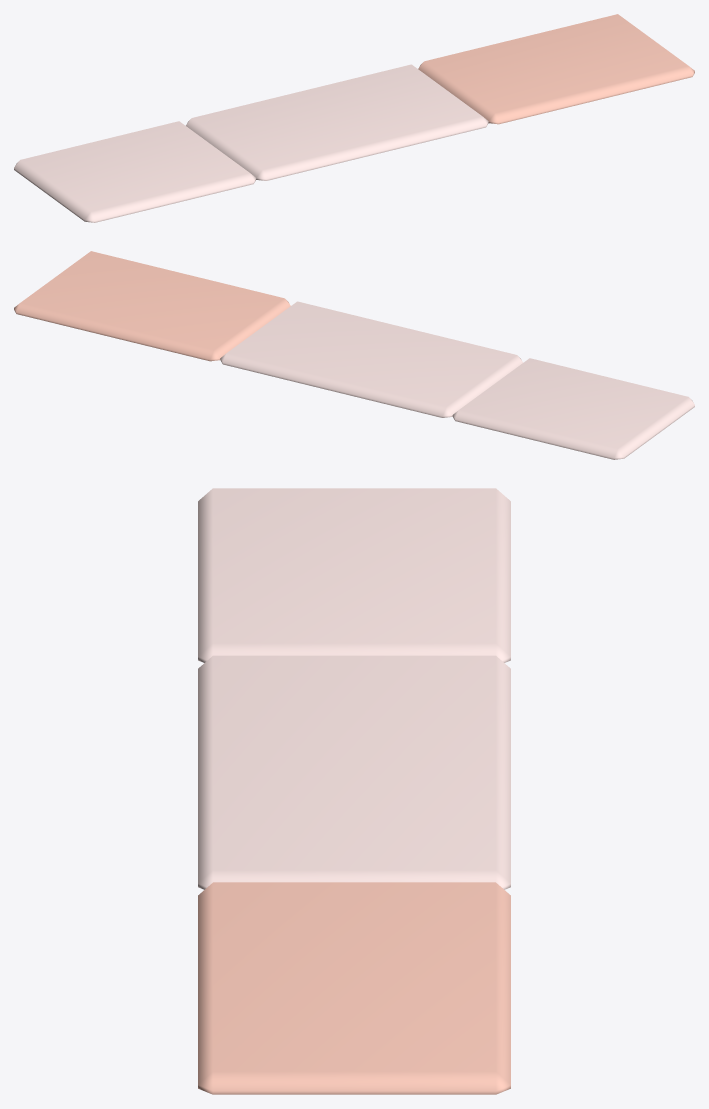
File: Farm_13_Path_2.glb
3 renders of one model, top to bottom at view 1: azimuth 30°, elevation 25°; view 2: azimuth 150°, elevation 25°; view 3: azimuth 270°, elevation 25°, orthographic. The views are drawn at different scales.
Visible parts, largest first — view 1: Farm_13_Path_2; view 2: Farm_13_Path_2; view 3: Farm_13_Path_2.
Part boxes in pixels (left/top/right/bottom): Farm_13_Path_2: left=14, top=14, right=694, bottom=222; Farm_13_Path_2: left=14, top=251, right=694, bottom=459; Farm_13_Path_2: left=198, top=488, right=510, bottom=1094.
Bounding box in the file's own units: 3.02 × 0.0404 × 0.6721.
1 material, 1 textured.
